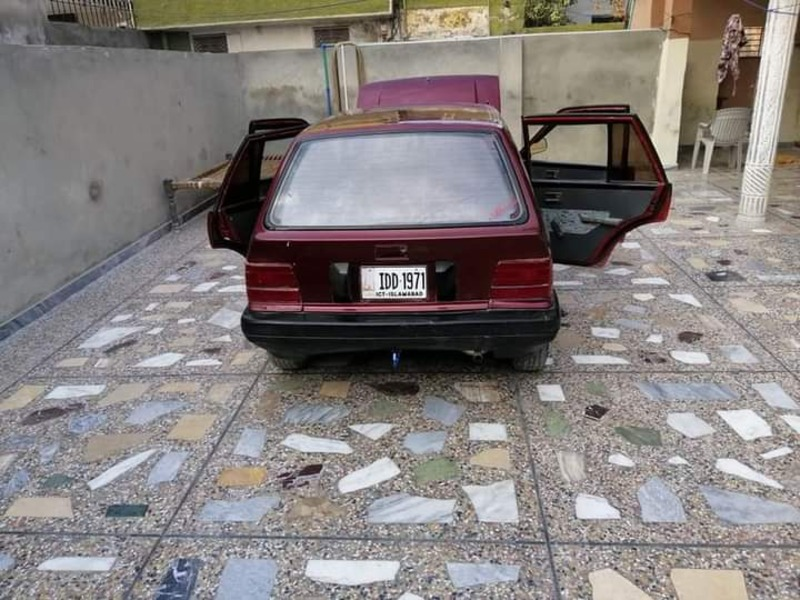License Plate: (357, 264, 431, 306)
